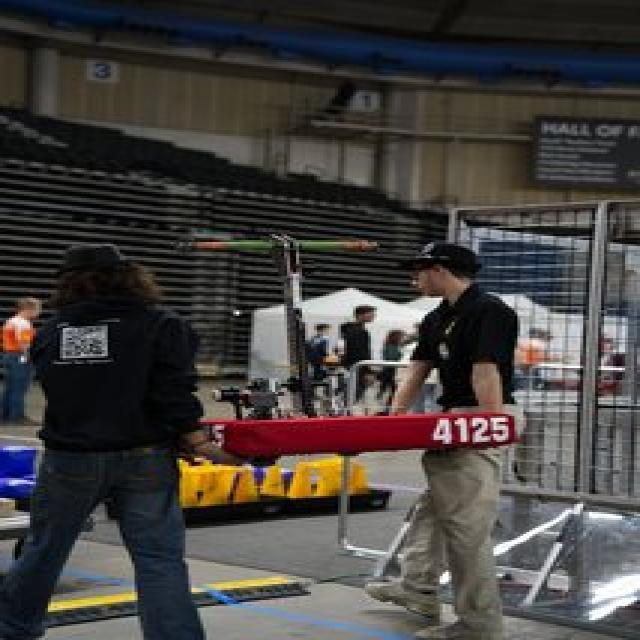robot: (180, 226, 542, 459)
